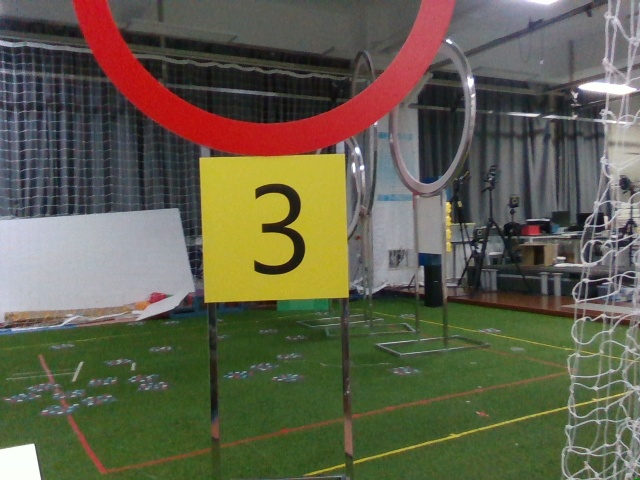target: (202, 166, 348, 294)
